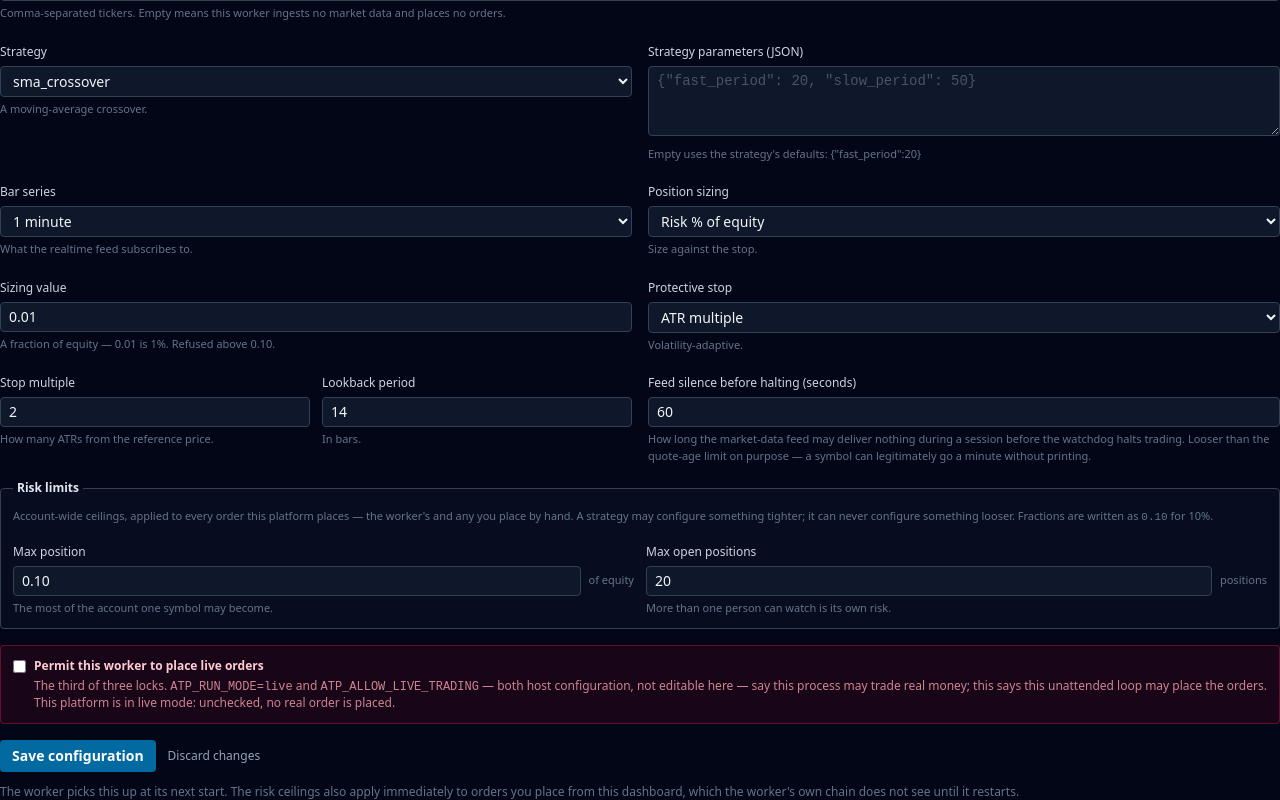
Test: the live-orders lock › cannot be armed without a password
(page scrolled)
Click the checkbox labelled "Permit this worker to place live orders": (20, 666) left=13, top=660, right=26, bottom=673
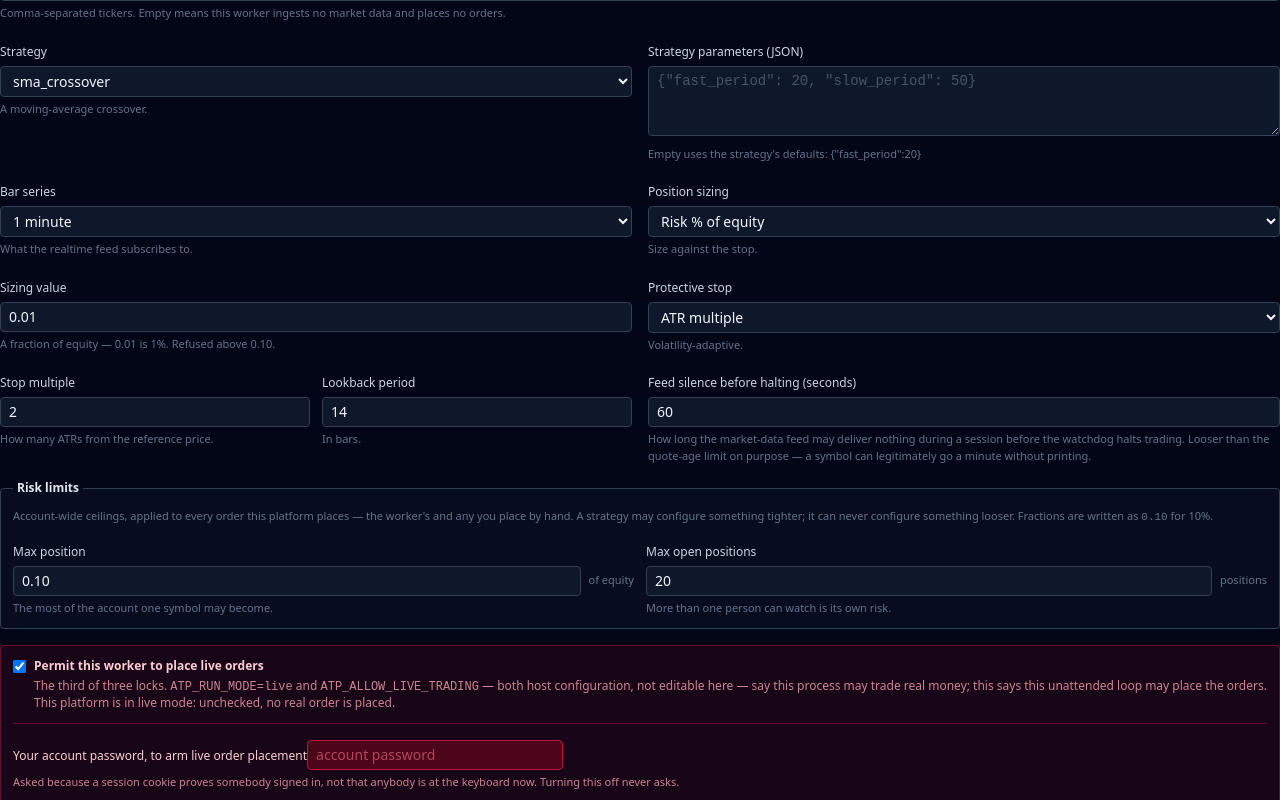
Now the password field labelled "Your account password, to arm live order placement" is shown, box left=307, top=740, right=563, bottom=770
